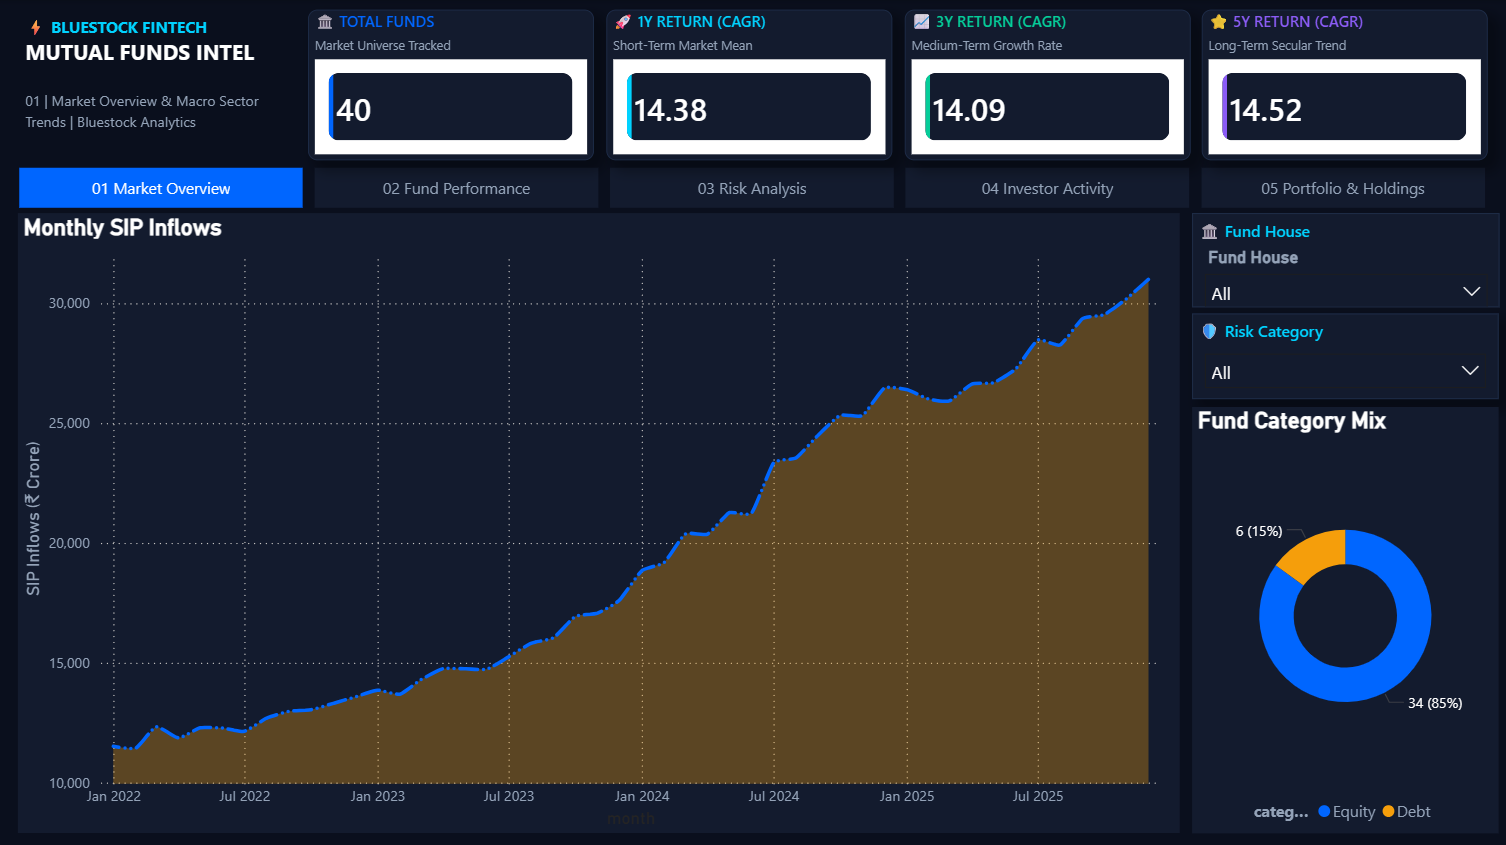

The dashboard page shown, as its layout file describes it:
{"tool":"powerbi","page":{"name":"01 Market Overview","canvas":[1280,720],"ordinal":0},"visuals":[{"type":"textbox","box":[16,8,234,60],"z":1000},{"type":"textbox","box":[16,70,234,64],"z":1100},{"type":"pageNavigator","box":[16,142,1248,34],"z":2000},{"type":"cardVisual","title":"🏛️ TOTAL FUNDS","fields":{"Data":["reporting vw_fund_overview.Total Funds"]},"box":[262,8,243,128],"z":3000},{"type":"cardVisual","title":"🚀 1Y RETURN (CAGR)","fields":{"Data":["reporting vw_fund_overview.Average 1Y Return (%)"]},"box":[515,8,243,128],"z":4000},{"type":"cardVisual","title":"📈 3Y RETURN (CAGR)","fields":{"Data":["reporting vw_fund_overview.Average 3Y Return (%)"]},"box":[768,8,243,128],"z":5000},{"type":"cardVisual","title":"⭐ 5Y RETURN (CAGR)","fields":{"Data":["reporting vw_fund_overview.Average 5Y Return (%)"]},"box":[1021,8,243,128],"z":6000},{"type":"slicer","title":"🏛️ Fund House","fields":{"Values":["reporting vw_fund_overview.fund_house"]},"box":[1013.1,181.1,261.4,80.2],"z":7000},{"type":"slicer","title":"🛡️ Risk Category","fields":{"Values":["reporting vw_fund_overview.risk_category"]},"box":[1013.1,266.5,260.1,72.5],"z":7100},{"type":"lineChart","title":"Monthly SIP Inflows","fields":{"Category":["analytics monthly_sip_inflows.month"],"Y":["Sum(analytics monthly_sip_inflows.sip_inflow_crore)"]},"box":[15.5,181.1,987.3,526.6],"z":8000},{"type":"donutChart","title":"Fund Category Mix","fields":{"Category":["reporting vw_fund_overview.category"],"Y":["CountNonNull(reporting vw_fund_overview.amfi_code)"]},"box":[1013.1,345.5,260.1,362.3],"z":9000}]}

Visuals, with their boxes in screenshot pixels (x1, y1, x2, y2), scaled from the page's 1280x720 canvas onto the 1506x845 screenshot:
textbox: bbox=[19, 9, 294, 80]
textbox: bbox=[19, 82, 294, 157]
pageNavigator: bbox=[19, 167, 1487, 207]
"🏛️ TOTAL FUNDS" cardVisual: bbox=[308, 9, 594, 160]
"🚀 1Y RETURN (CAGR)" cardVisual: bbox=[606, 9, 892, 160]
"📈 3Y RETURN (CAGR)" cardVisual: bbox=[904, 9, 1190, 160]
"⭐ 5Y RETURN (CAGR)" cardVisual: bbox=[1201, 9, 1487, 160]
"🏛️ Fund House" slicer: bbox=[1192, 213, 1500, 307]
"🛡️ Risk Category" slicer: bbox=[1192, 313, 1498, 398]
"Monthly SIP Inflows" lineChart: bbox=[18, 213, 1180, 831]
"Fund Category Mix" donutChart: bbox=[1192, 405, 1498, 831]
